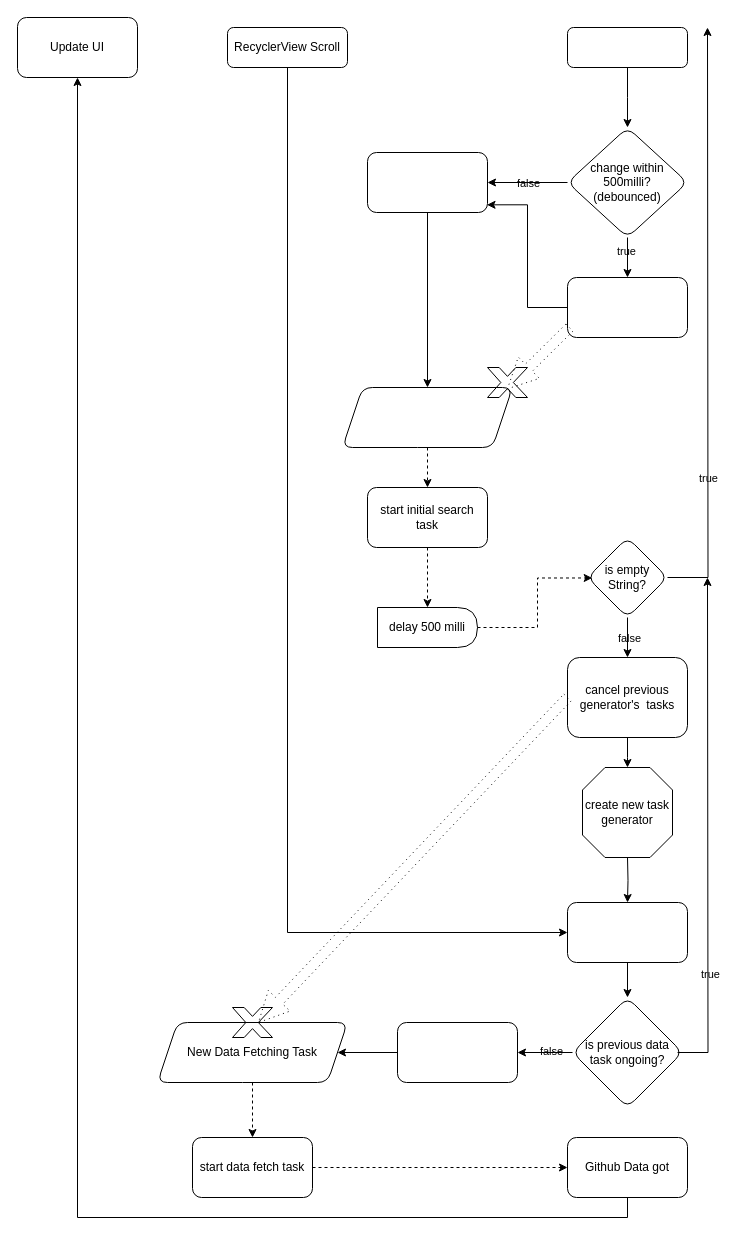
Image size: 737x1243. Some labels were removed from this diagram. The centre of each missing label's shape, as x and y in pixels:
cancel previous task: point 627,307
create new Data Fetching Task: point 457,1052
create new Initial Search Task: point 427,182
EditText Change: point 627,47
invoke next generated call: point 627,932
New Initial Search Task: point 427,417
